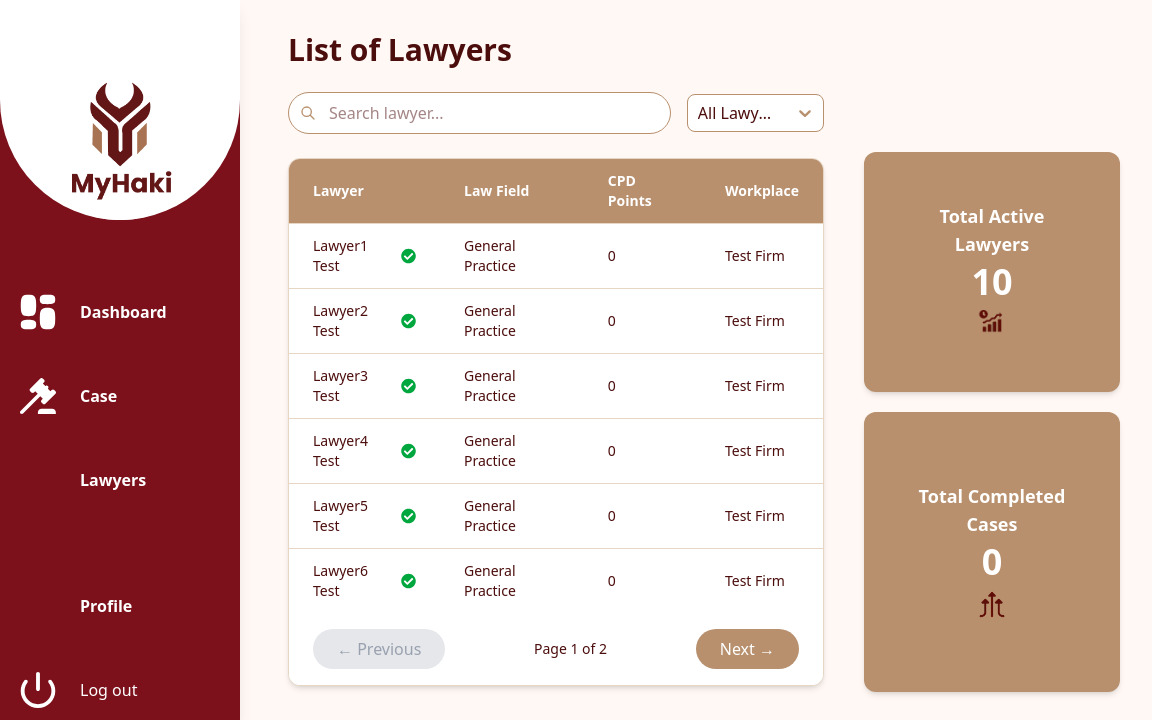
Scenario: LawyersPage › disables pagination buttons on first/last page
The image size is (1152, 720).
Expected: the button "← Previous" is disabled, x1=313 y1=629 x2=445 y2=669
What coordinates should you click on to do the following:
click the button "Next →"
I would click on:
 (747, 649)
Its box is x1=696 y1=629 x2=799 y2=669.
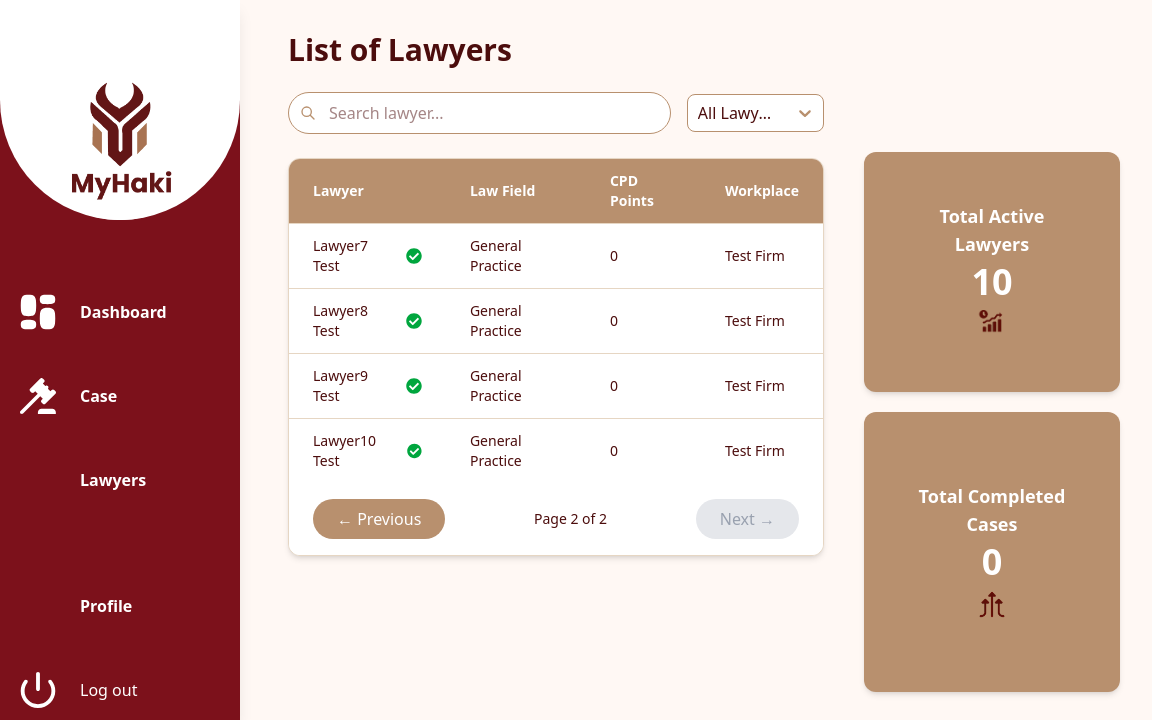
Result: the button "← Previous" is enabled at x1=313 y1=499 x2=445 y2=539
Result: the button "Next →" is disabled at x1=696 y1=499 x2=799 y2=539
